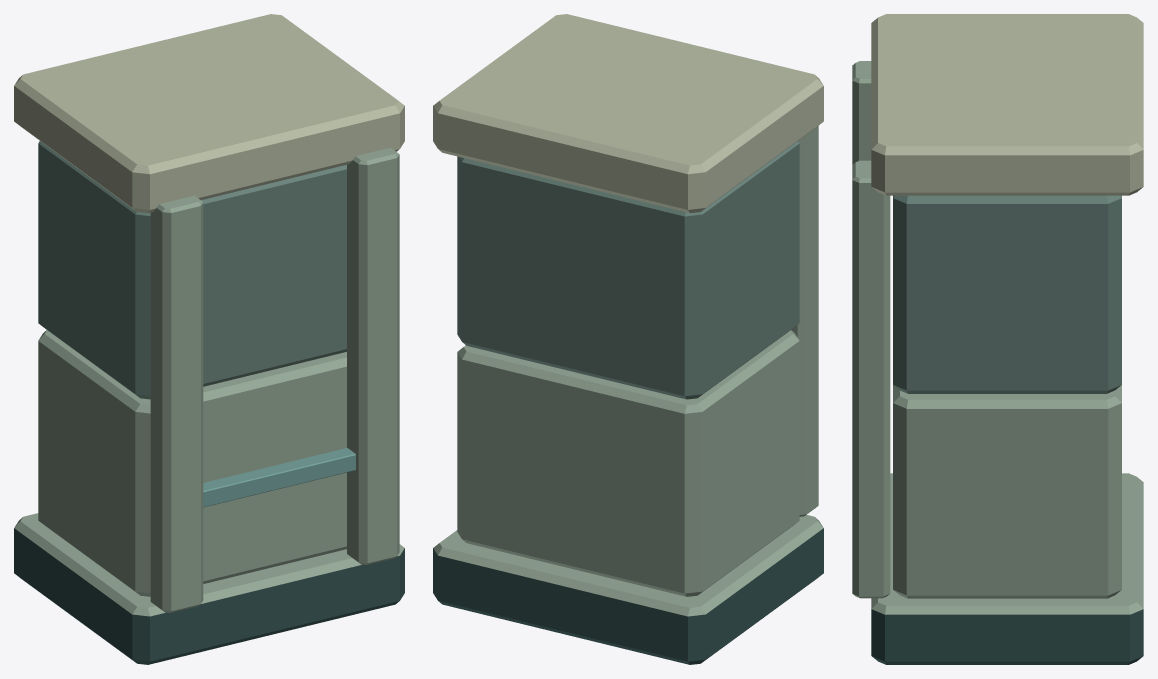
File: wall-end.glb
The picture shows the model from 3 angles, left to right: view 1: azimuth 30°, elevation 25°; view 2: azimuth 150°, elevation 25°; view 3: azimuth 270°, elevation 25°; orthographic projection. The views are drawn at different scales.
Visible parts, largest first — view 1: wall-end__body; view 2: wall-end__body; view 3: wall-end__body.
Part boxes in pixels (bbox=[...]): wall-end__body: bbox=[14, 14, 404, 664]; wall-end__body: bbox=[433, 14, 823, 664]; wall-end__body: bbox=[852, 14, 1143, 664].
Bounding box in the file's own units: 0.6 × 1.05 × 0.535.
